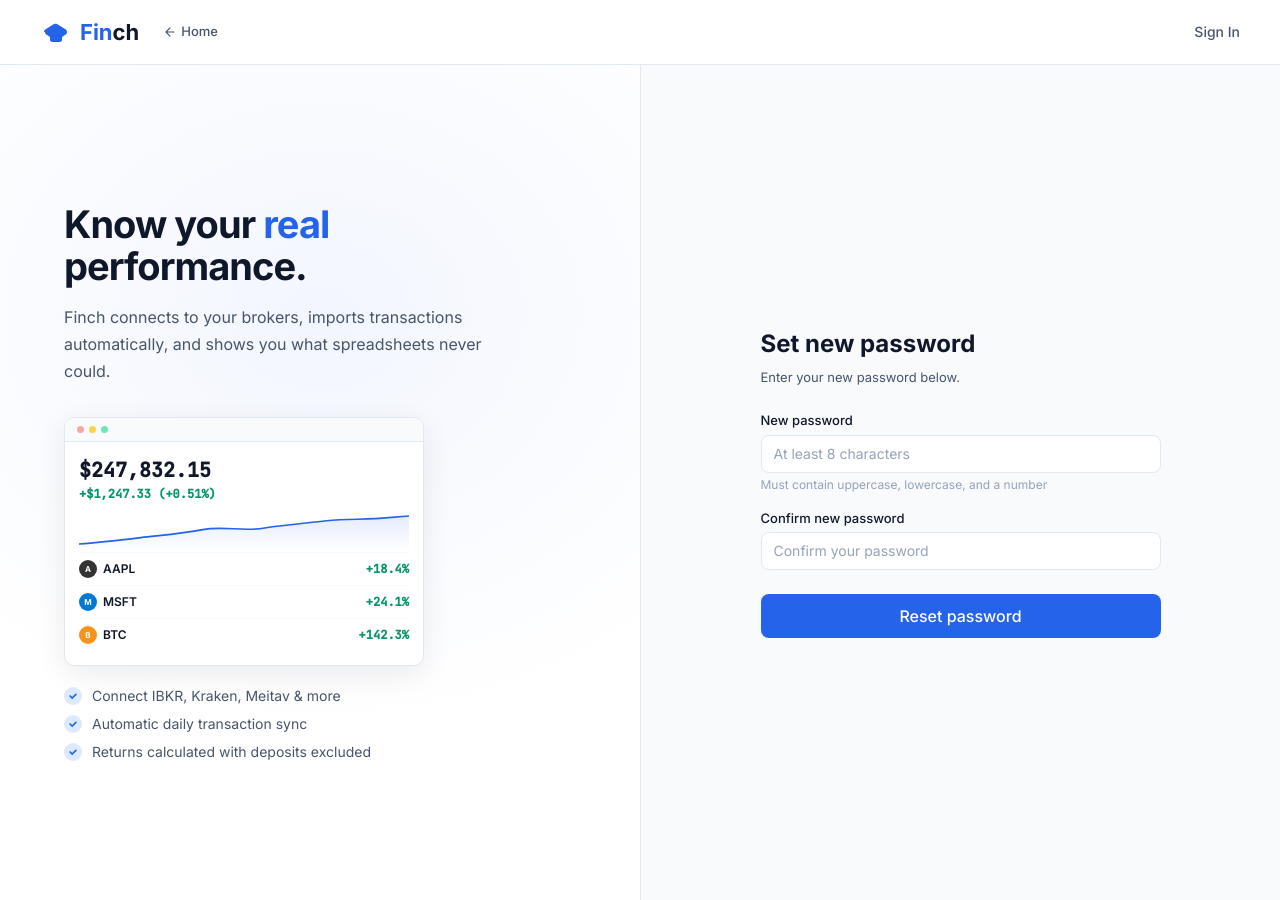
Scenario: ResetPassword › shows success state after password reset
In the password field labelled "New password": x=960, y=454 [760,435,1160,473], type "NewPass123"
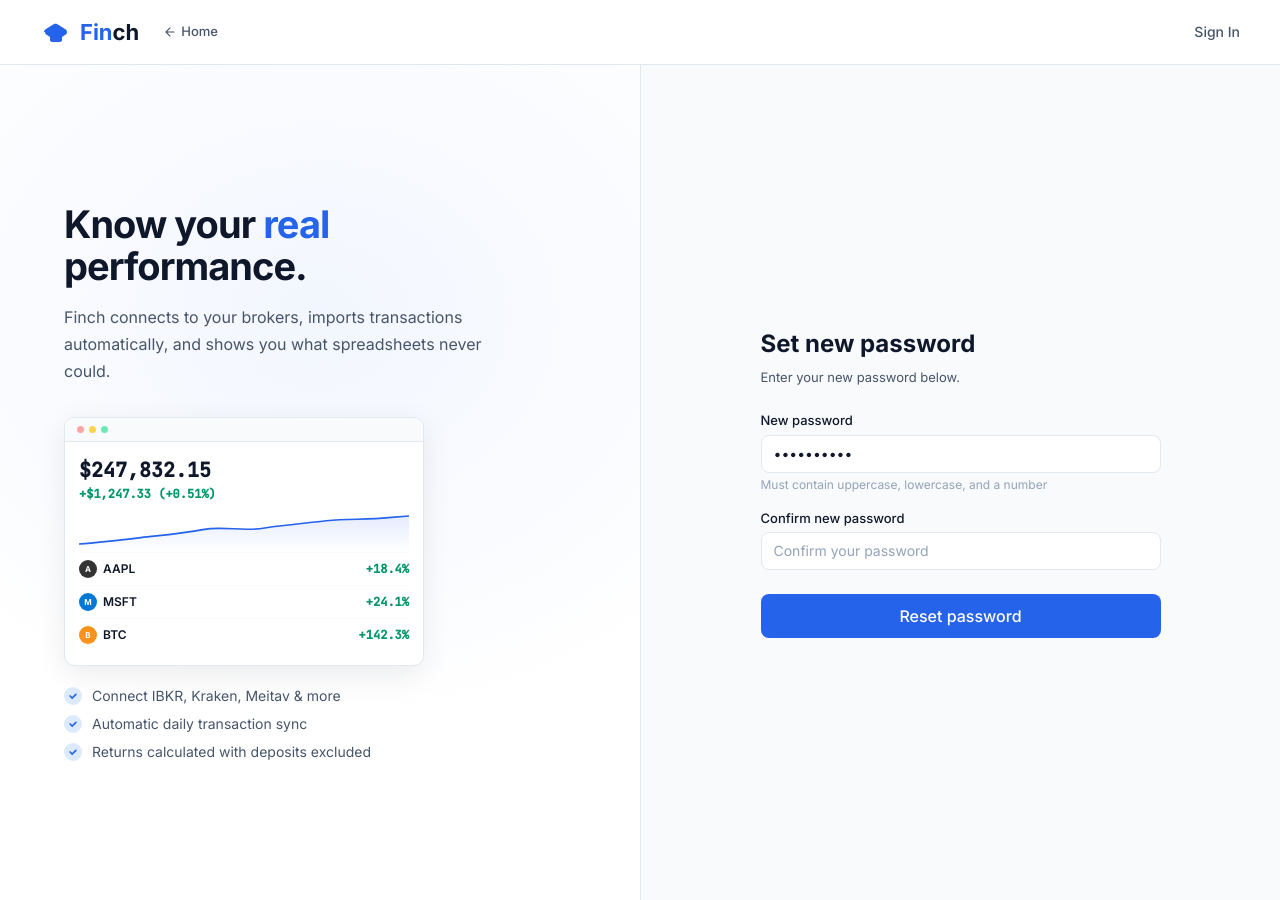
In the password field labelled "Confirm new password": x=960, y=551 [760,532,1160,570], type "NewPass123"
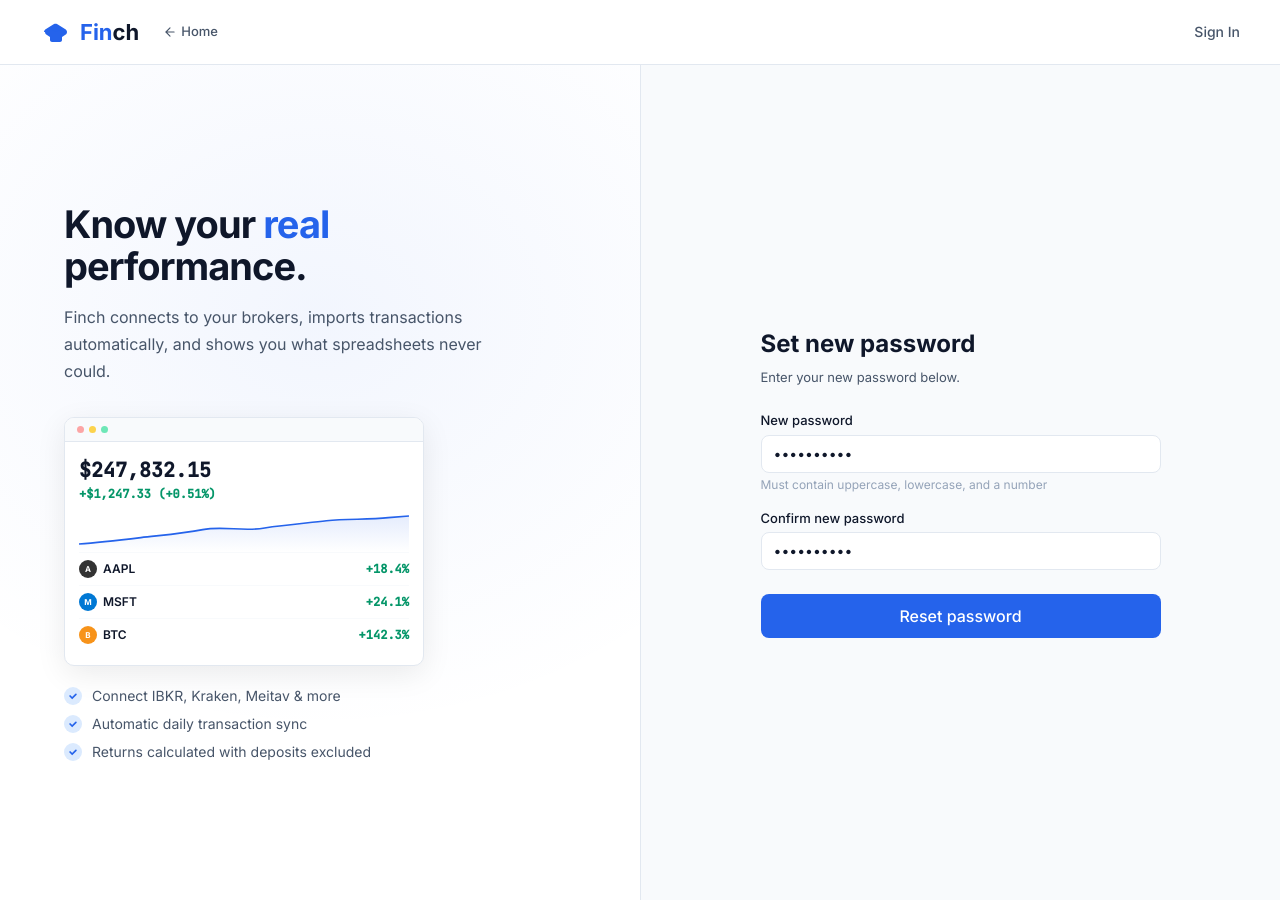
Click the button "Reset password": x=960, y=616 [760,594,1160,638]
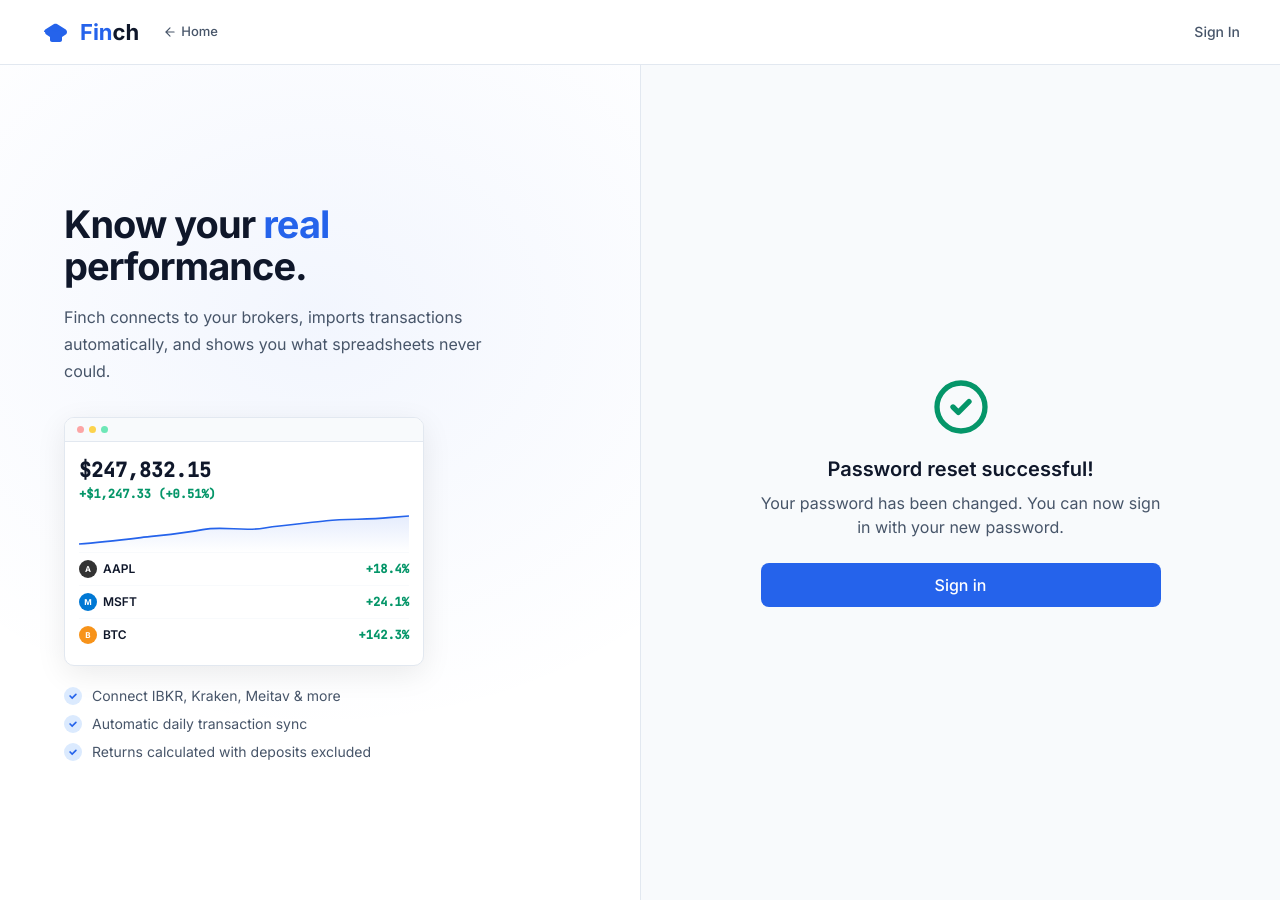
Expected: the link "Sign In" is shown, [1194,22,1240,42]
Expected: the heading "Password reset successful!" is shown, [827,457,1094,481]
